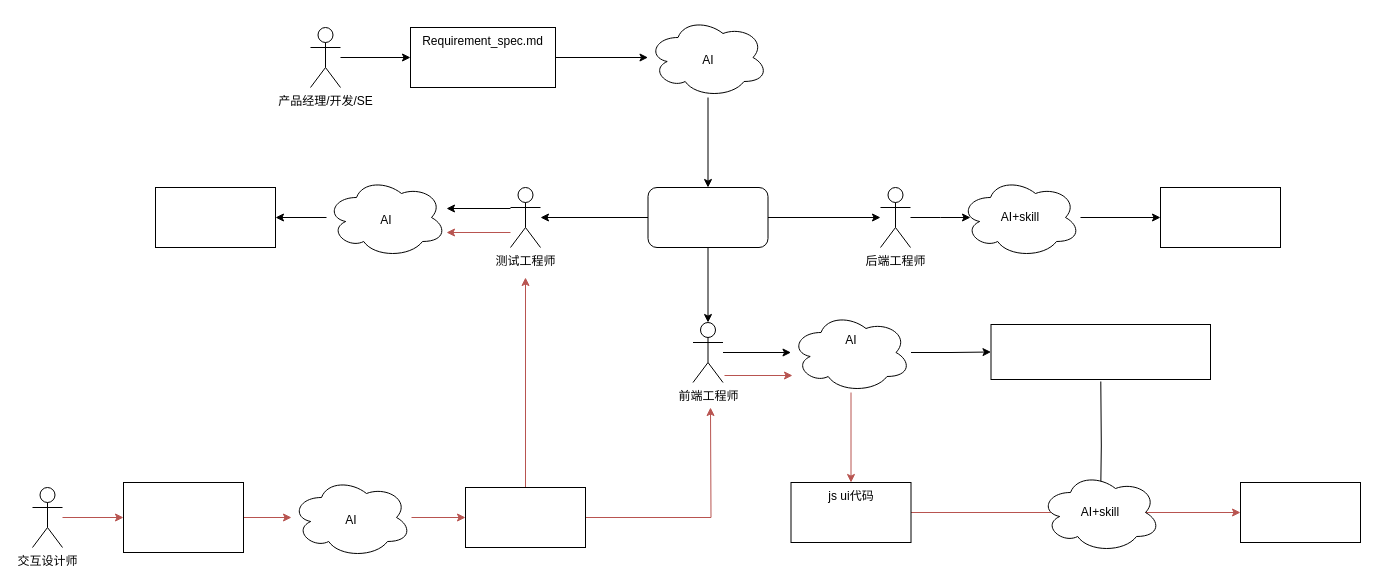
Image size: 1378x586. Some labels were removed from this diagram. The shapes that lost their labels are listed below. From the top down, each one's box as (x1, y1, x2, y2) in pixels, then its label:
(154, 186, 276, 248): 测试用例
(647, 186, 768, 248): API.md DB.md
(1160, 186, 1280, 248): 后端代码 java python ....
(990, 324, 1210, 380): TypeScript 类型定义、Mock 数据和 API 调用代码
(122, 482, 244, 552): 设计稿 stitch figma master go
(464, 486, 586, 548): design.md
(1240, 482, 1360, 542): 前端代码
